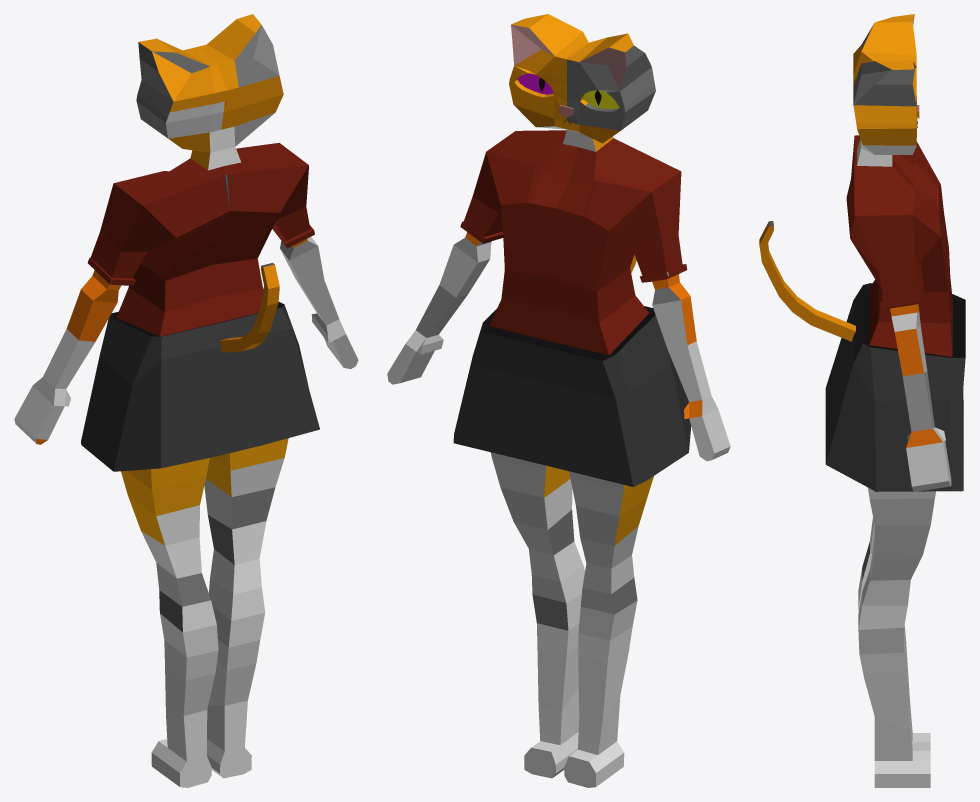
Rendered from NPC3.fbx.
3 views of the same model, side by side, from view 1: azimuth 30°, elevation 25°; view 2: azimuth 150°, elevation 25°; view 3: azimuth 270°, elevation 25° (orthographic).
Visible parts, largest first — view 1: NPC3; view 2: NPC3; view 3: NPC3.
Part boxes in pixels (x1,y1,x2,y2): NPC3: (14,14,358,787); NPC3: (387,14,730,787); NPC3: (759,14,965,787).
Size of the model in its own units: 532 by 1144 by 292.
Materials: 1 (1 with a texture image).
